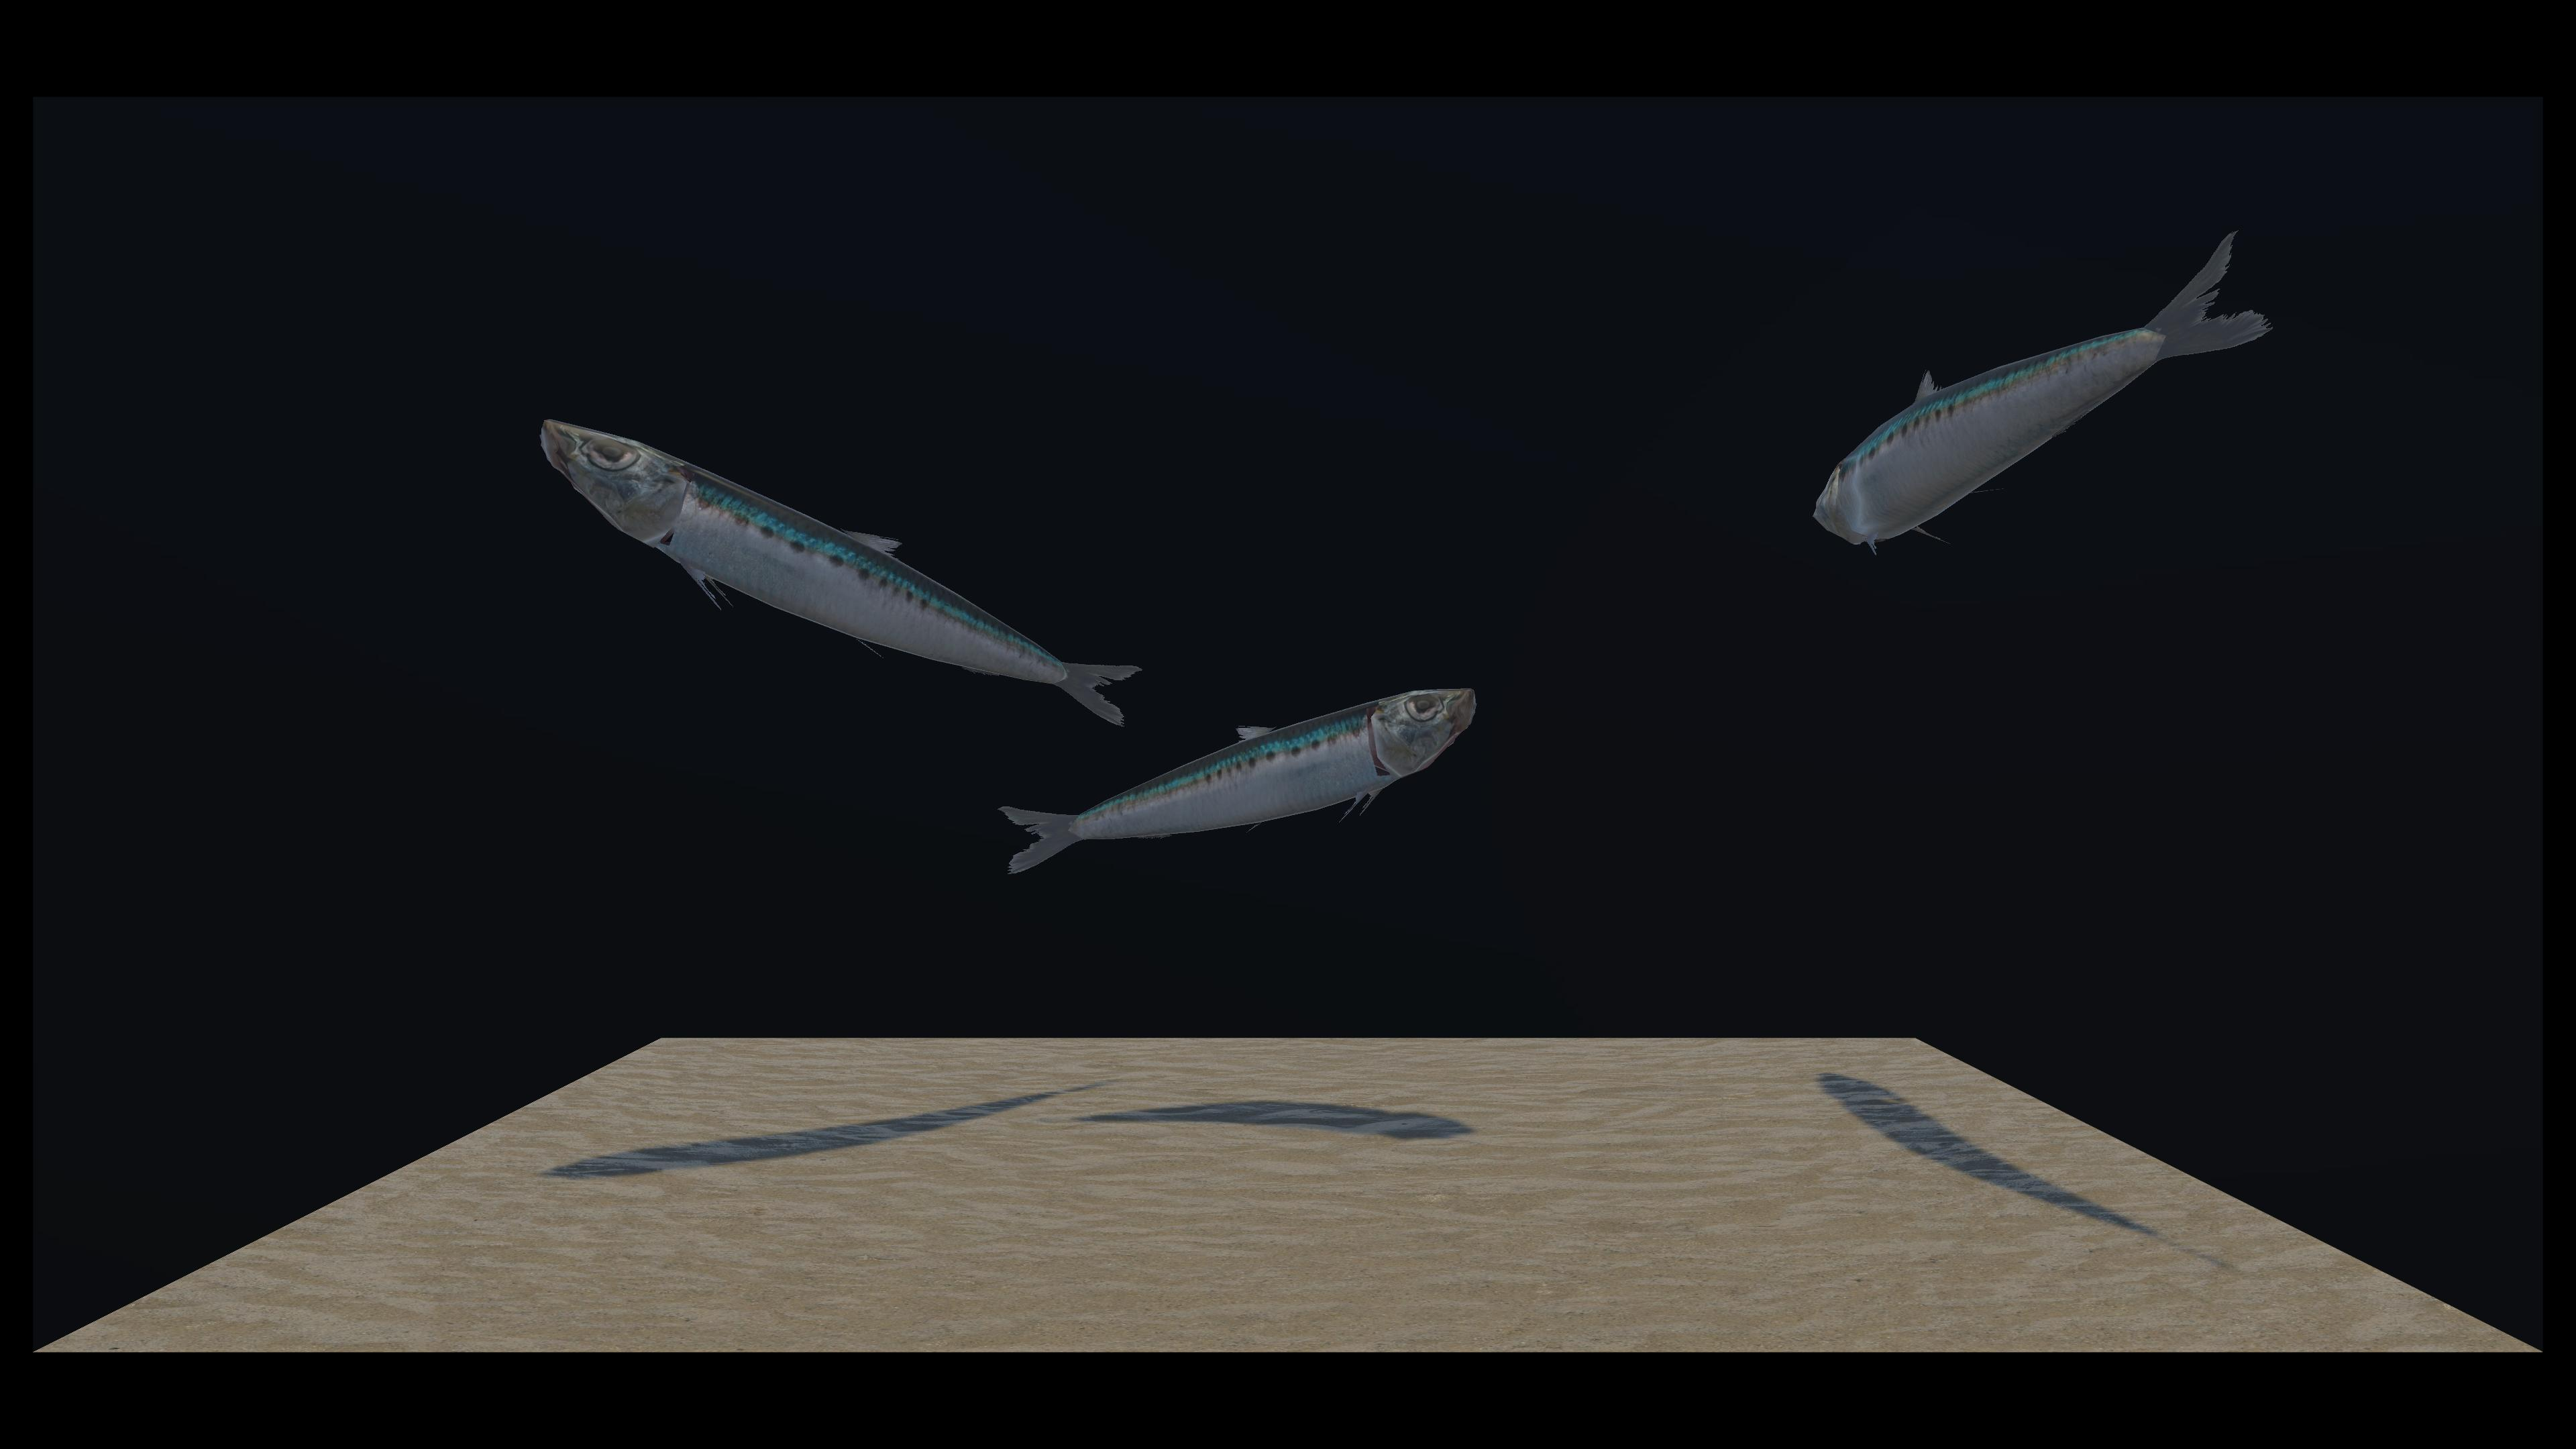Sardine_Front: (672, 235, 2261, 561), (658, 379, 1468, 874), (554, 421, 1136, 725)
